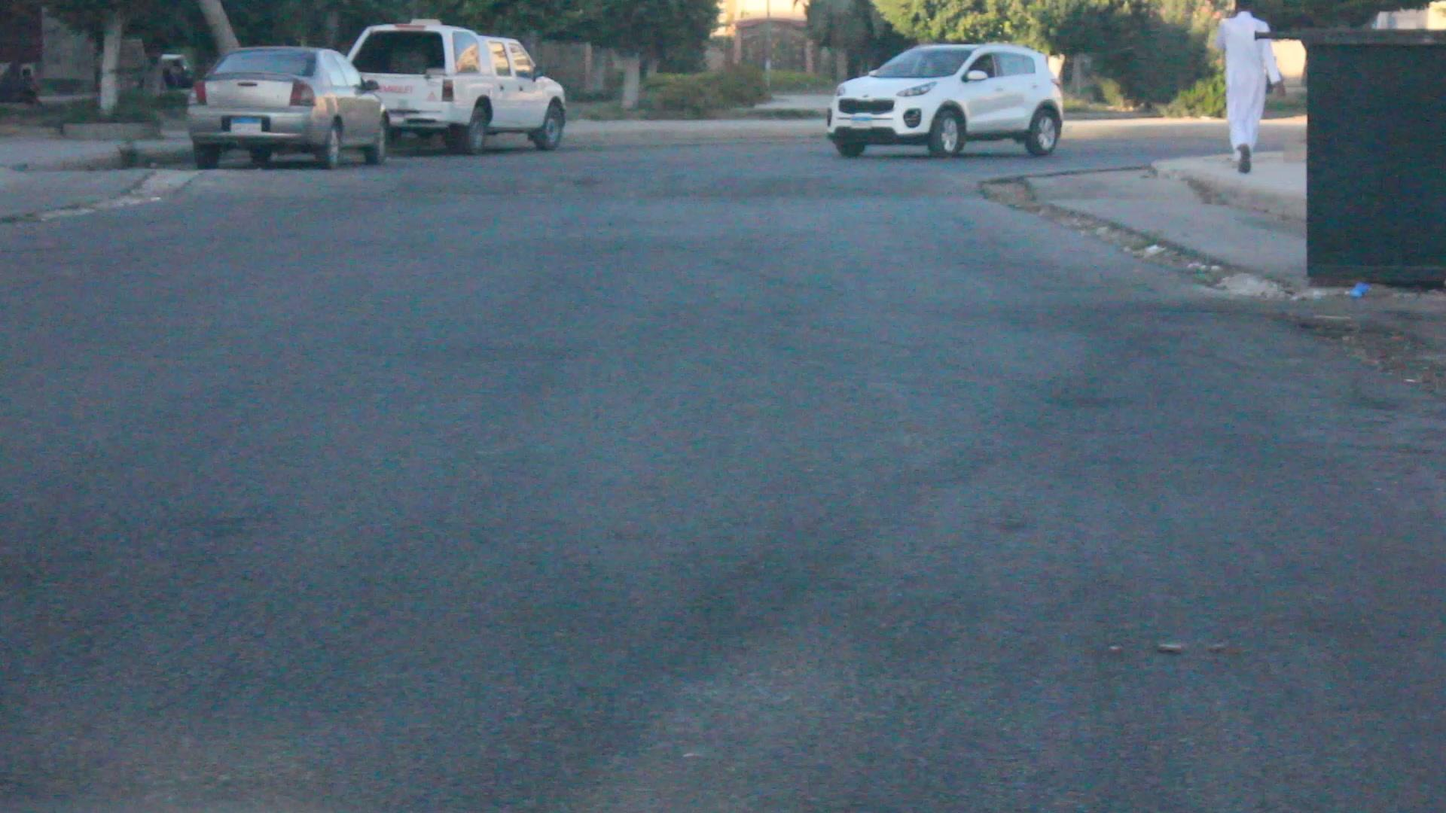Bump: (151, 160, 1009, 194)
